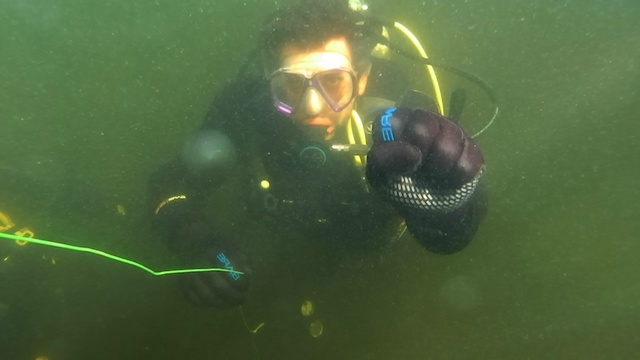Diver: (152, 15, 527, 335)
Hand: (360, 99, 486, 248), (153, 175, 256, 312)
Head: (247, 10, 386, 174)
